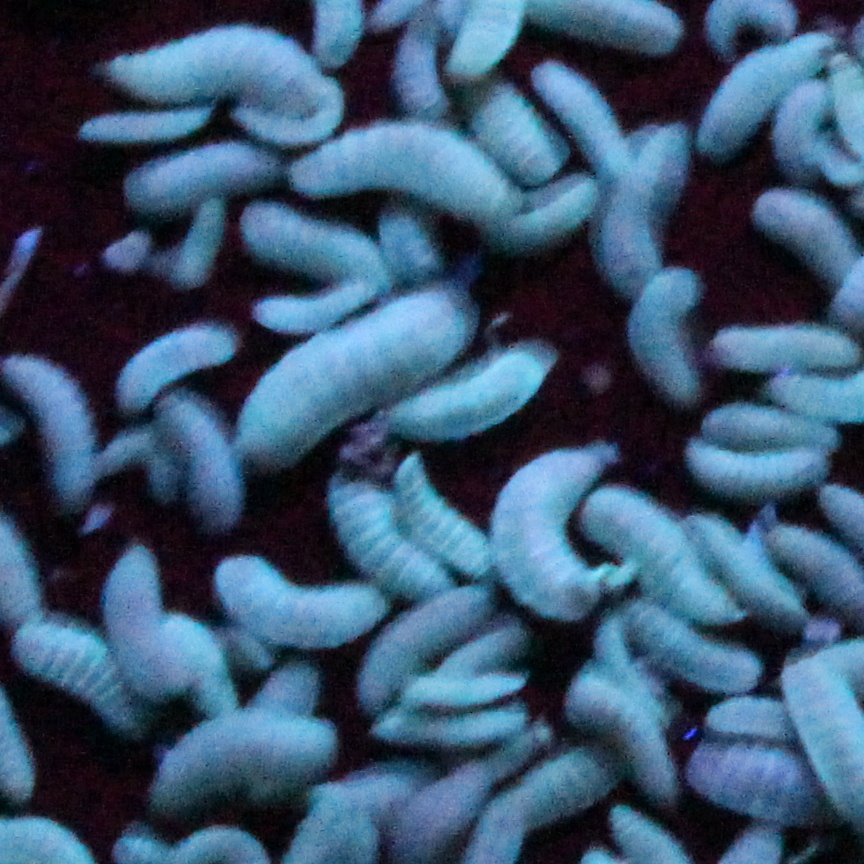larve: (258, 292, 472, 453), (92, 12, 314, 108), (601, 489, 747, 614), (497, 445, 588, 620), (145, 731, 317, 810), (351, 596, 476, 703), (333, 496, 454, 599), (293, 130, 488, 192), (30, 344, 97, 516), (245, 200, 382, 283), (230, 563, 360, 649), (576, 678, 676, 789), (397, 357, 562, 424), (247, 333, 423, 394), (682, 434, 827, 496), (631, 278, 698, 407), (180, 388, 238, 536), (698, 49, 774, 161), (113, 147, 278, 197), (5, 629, 116, 701), (615, 128, 665, 274), (113, 326, 246, 375), (708, 330, 850, 373), (124, 553, 167, 683), (573, 68, 626, 172), (79, 110, 221, 146), (399, 0, 443, 112), (175, 205, 226, 296), (780, 88, 829, 181), (492, 94, 543, 175), (248, 292, 369, 315)
